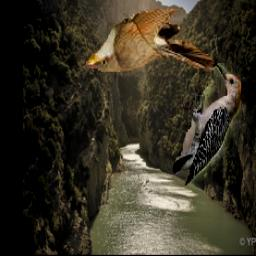Cuckoo: (83, 10, 214, 73)
Woodpecker: (173, 64, 242, 186)
